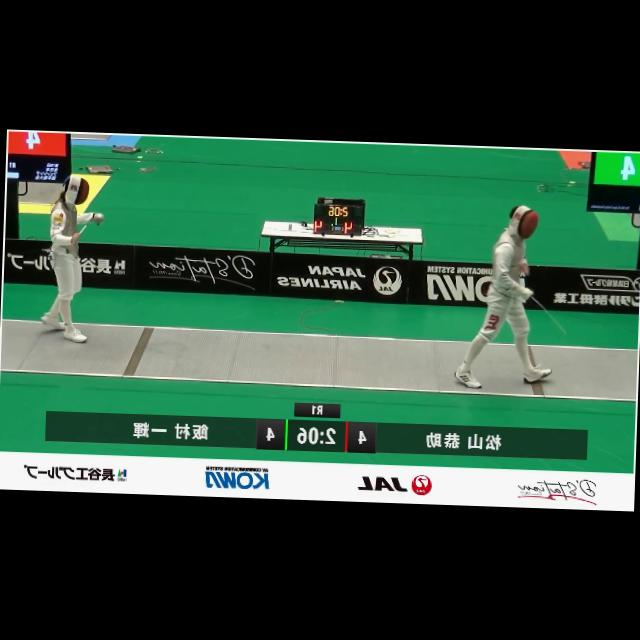blade: (518, 288, 572, 339), (66, 210, 106, 248)
